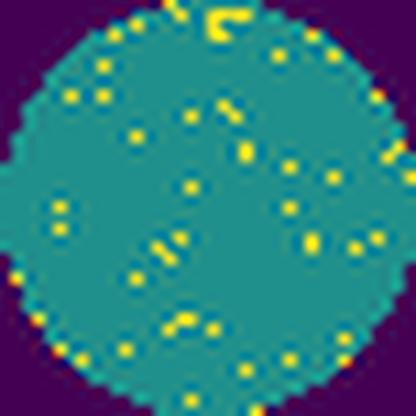Loc: (203, 7, 251, 44)
